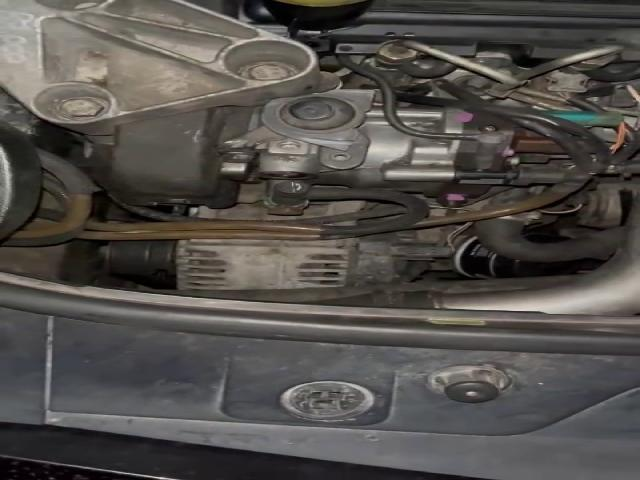alternator: (170, 225, 453, 290)
high_pressure_pump: (254, 104, 558, 208)
